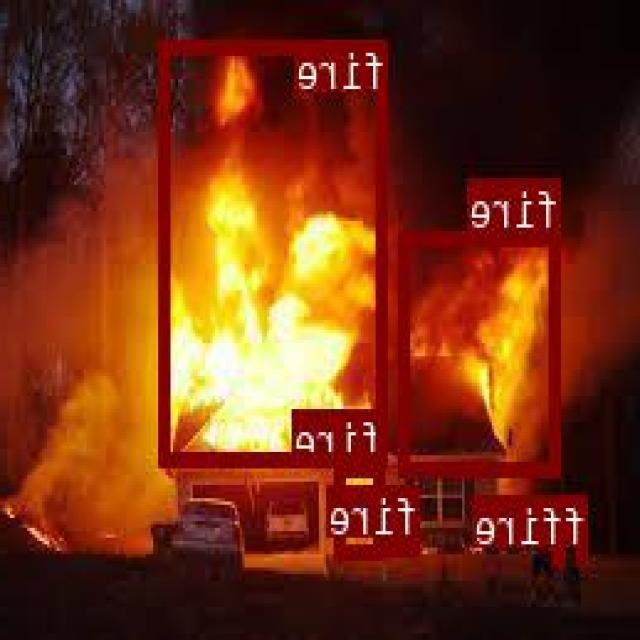fire: (163, 39, 390, 465), (400, 228, 562, 474), (336, 461, 387, 555), (385, 535, 421, 552), (554, 547, 566, 564), (580, 547, 589, 559)
